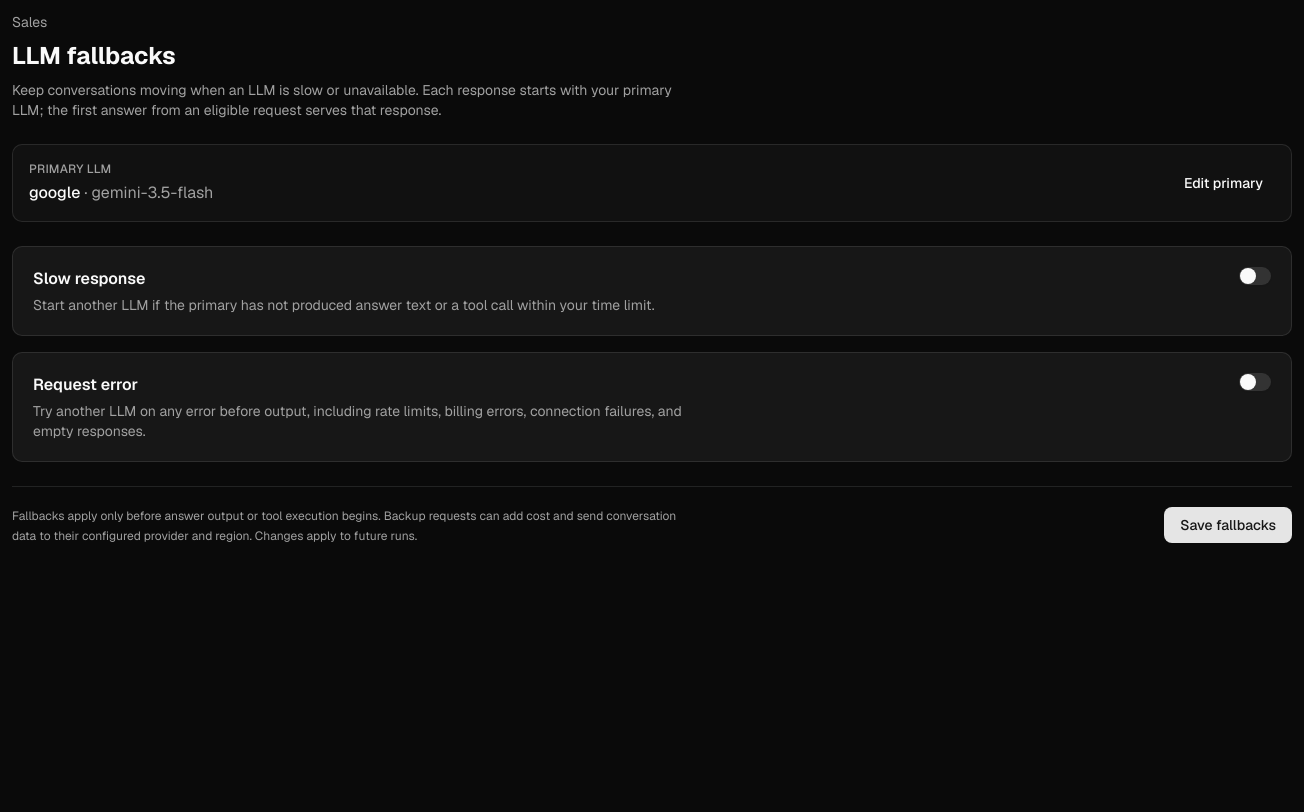
Scenario: LLM fallback editor › requires a different model when the primary is the only connection
This screenshot has width=1304, height=812.
Click the switch named "Request error" in the row of "Request error".
click(1255, 382)  # box [1239, 373, 1271, 391]
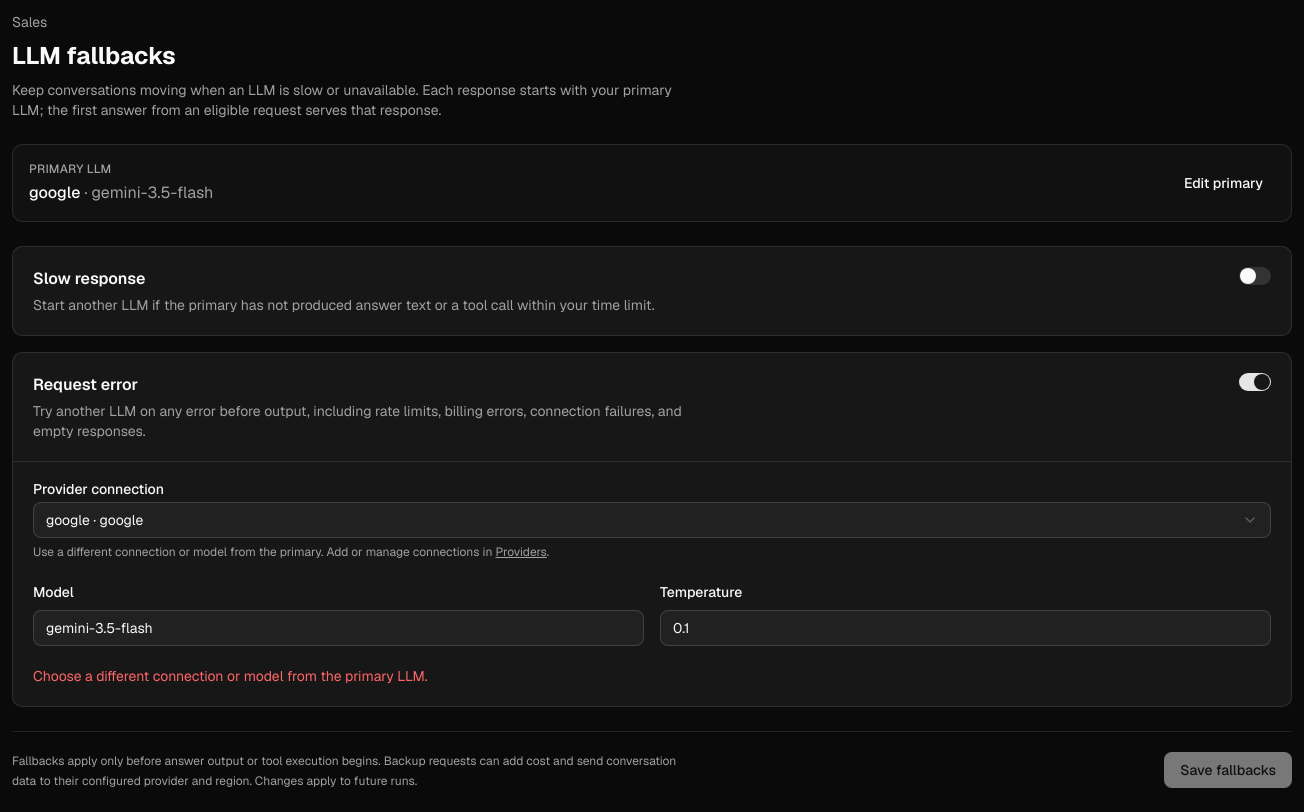
Check: the button "Save fallbacks" is disabled, box [1164, 752, 1292, 788]
Check: the message shows "different connection or model", box [33, 667, 428, 685]
Replace the text in the field labelled "Model" with "another-model" at point(338, 628), box [33, 610, 644, 646]
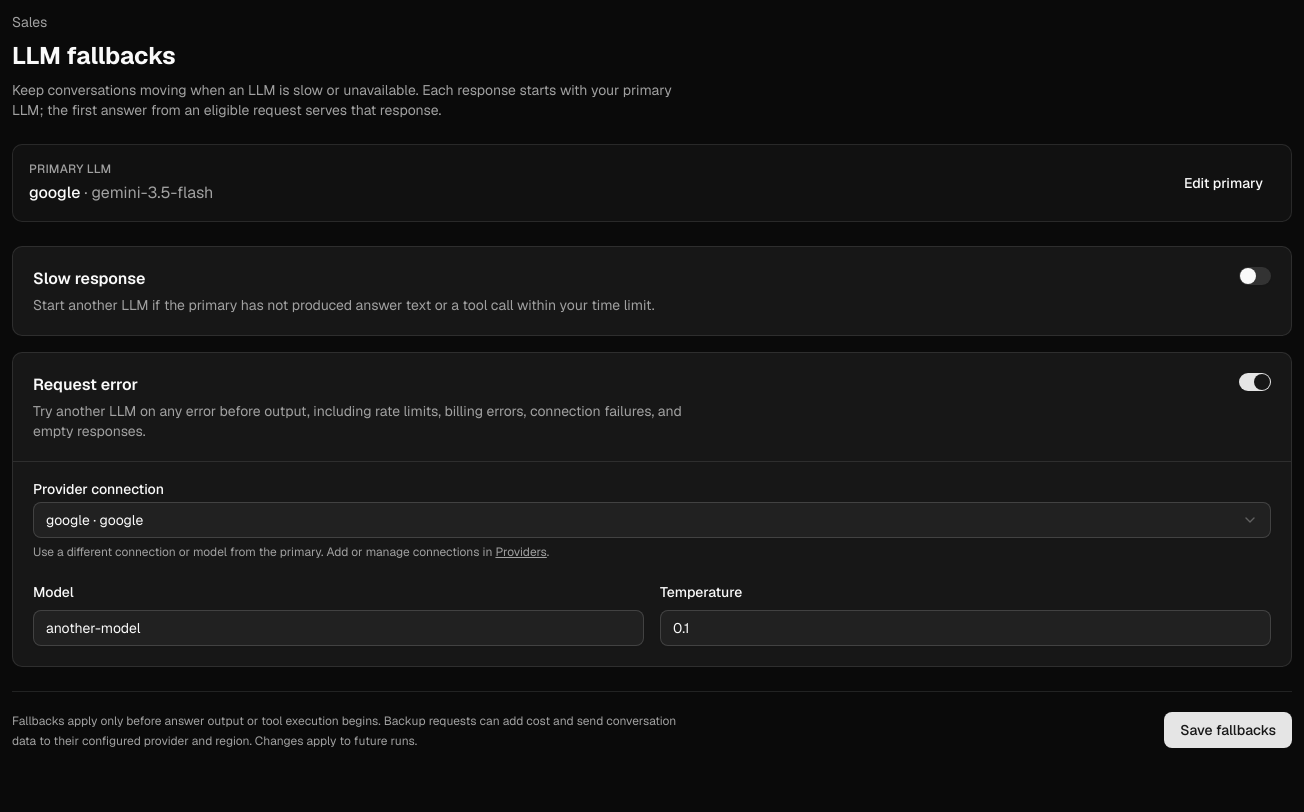
Check: the button "Save fallbacks" is enabled, box [1164, 712, 1292, 748]
